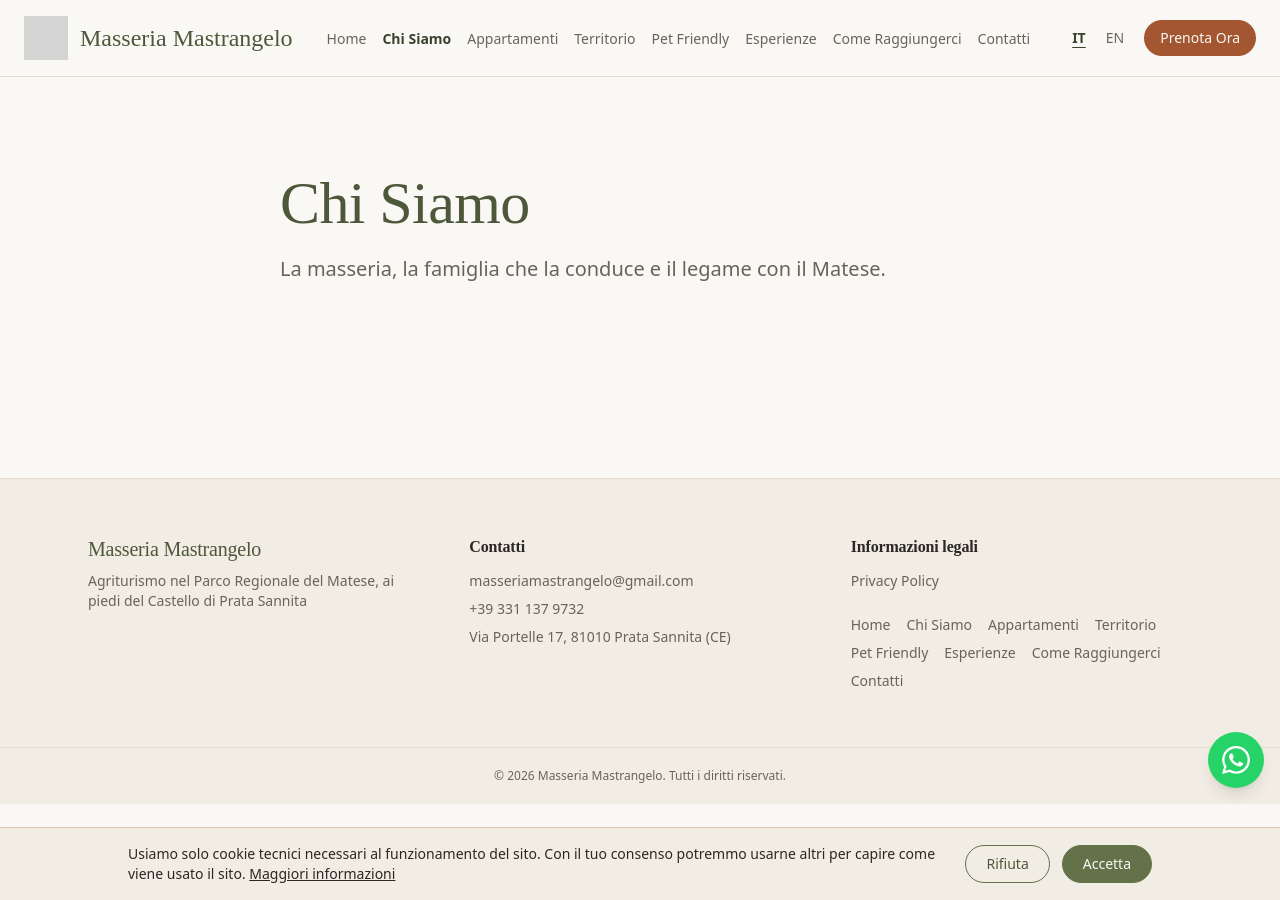
language toggle › switches the whole page to English
Expected: the heading "Chi Siamo" is shown, [280,170,530,236]
Click the button named "English": (1115, 38) [1098,24,1132,52]
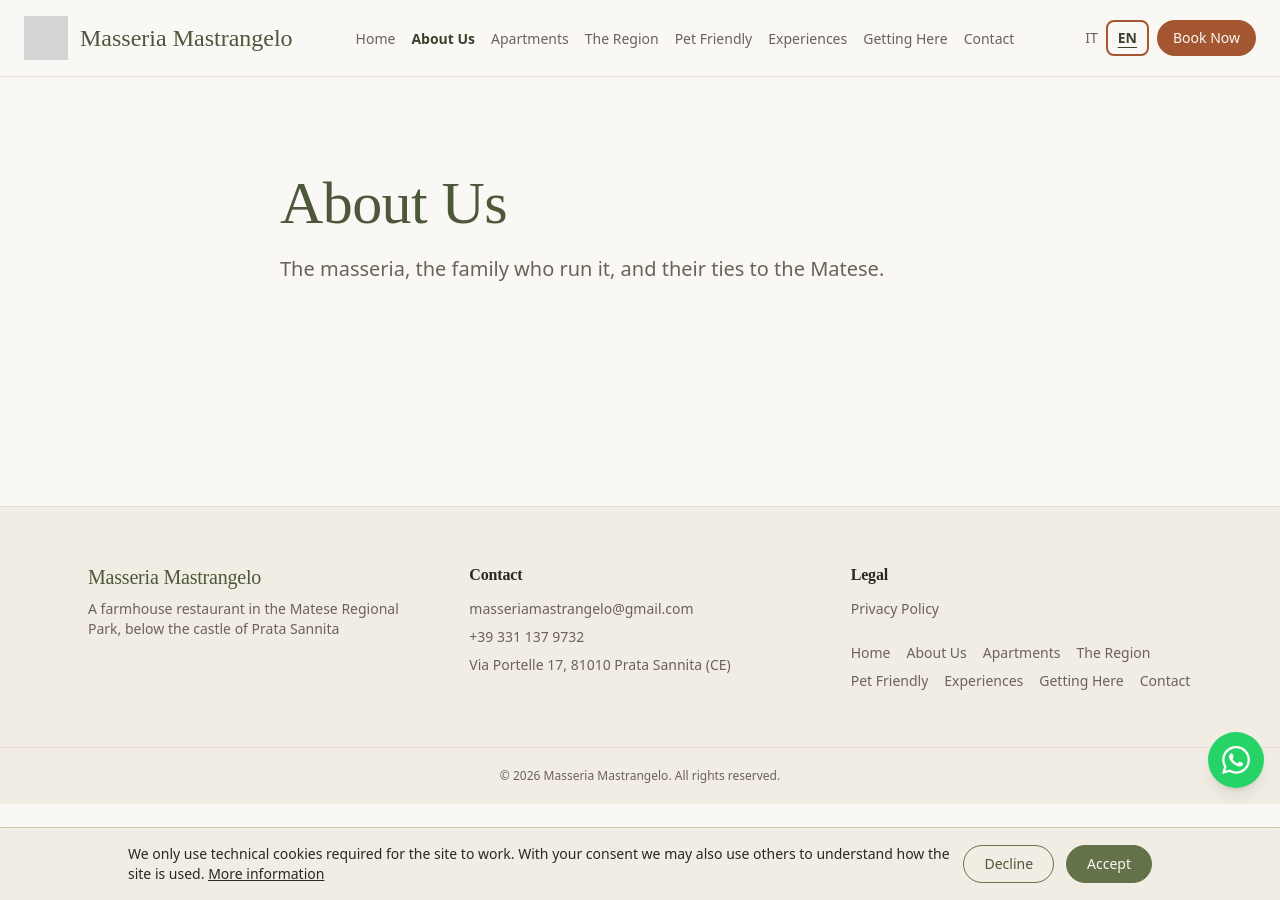
Expected: the heading "About Us" is shown, [280,170,507,236]
